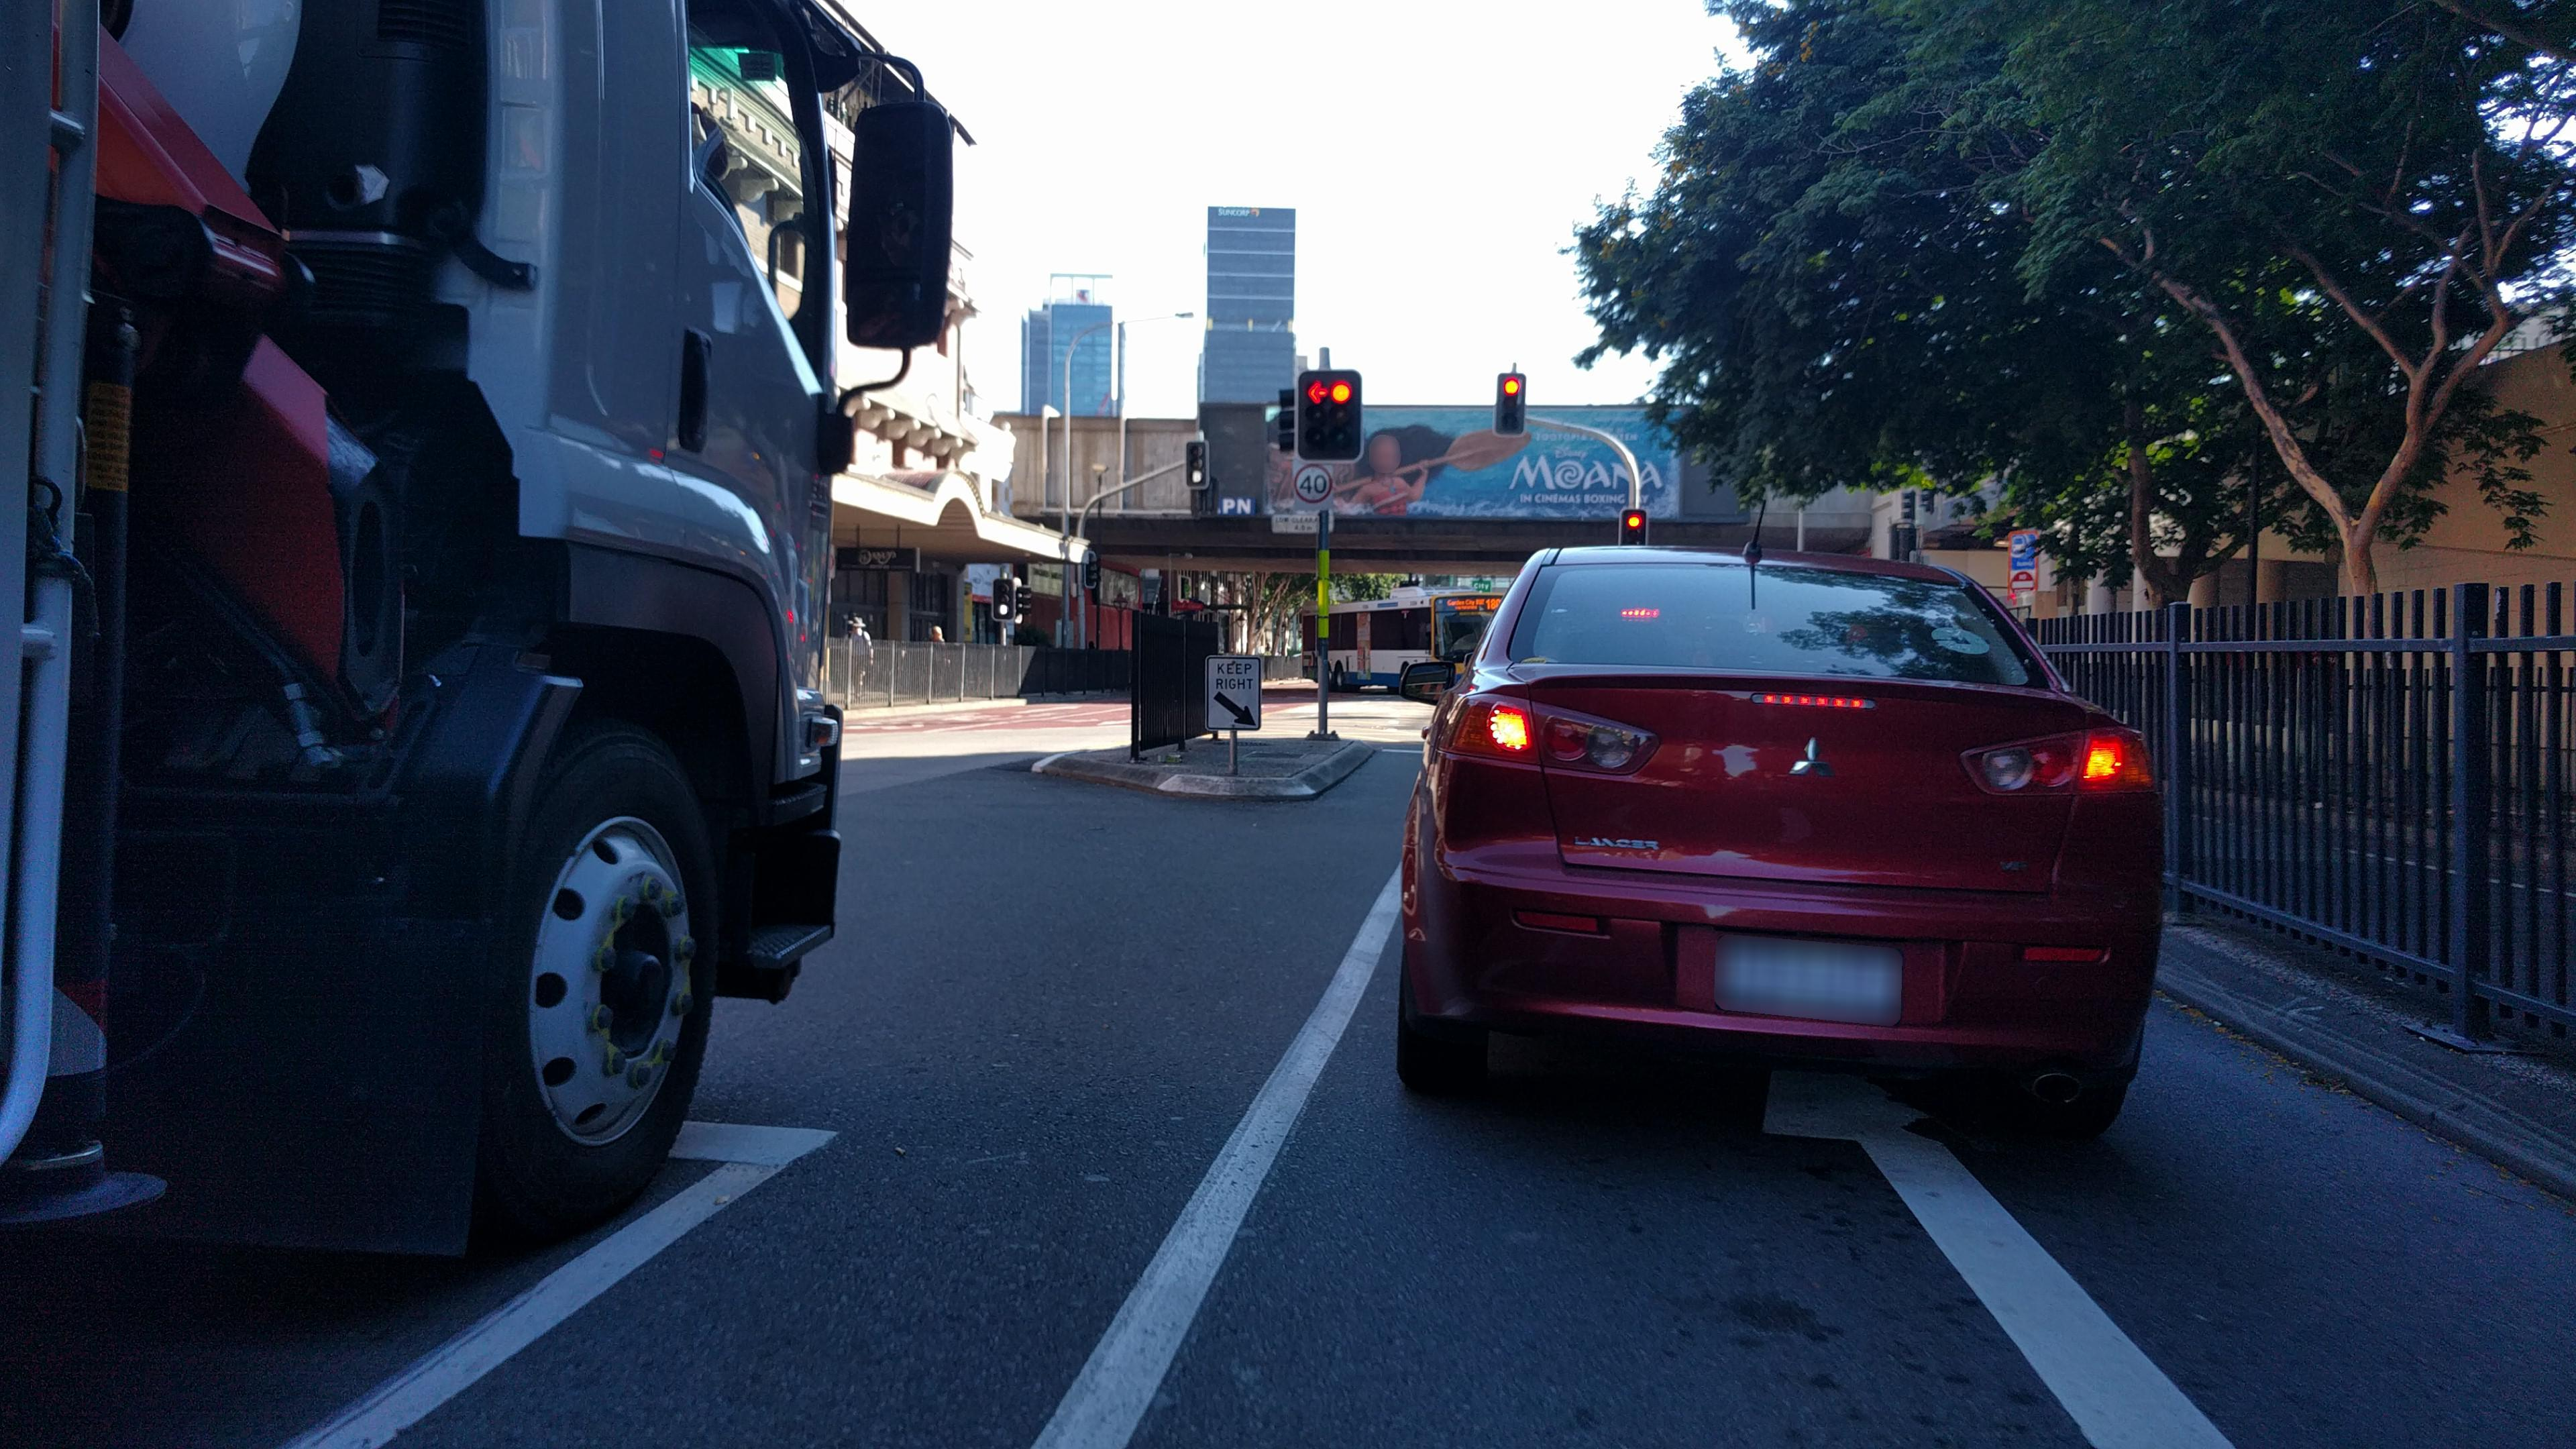vinyl banner: (1240, 382, 1684, 531)
